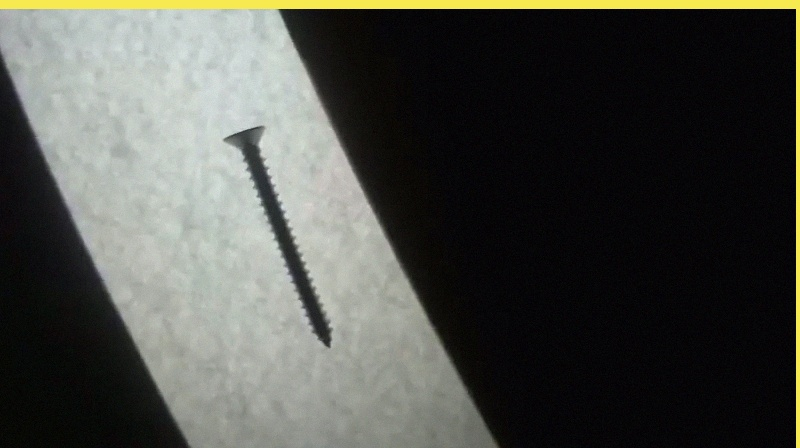S002: (217, 118, 334, 349)
